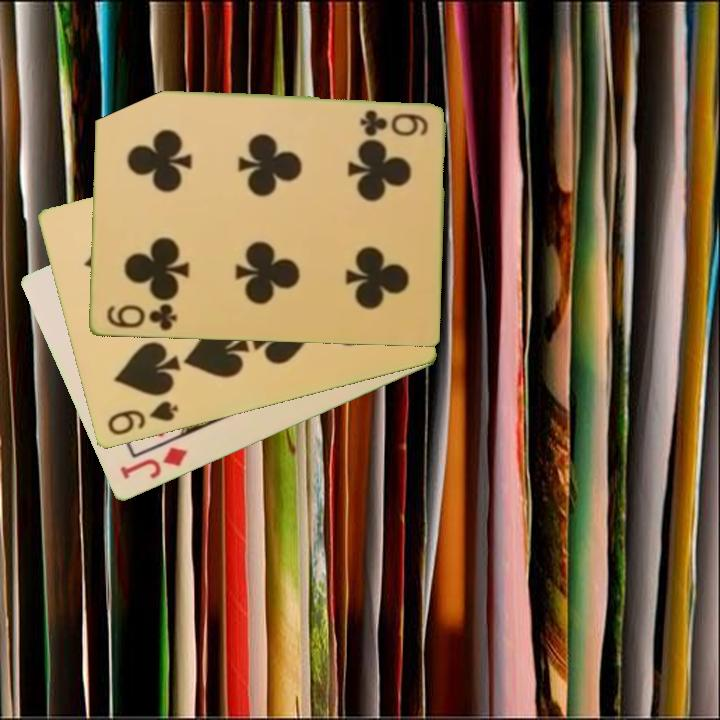6c: (102, 301, 179, 334), (355, 107, 431, 137)
9s: (103, 398, 181, 439)
Jd: (116, 444, 191, 483)
